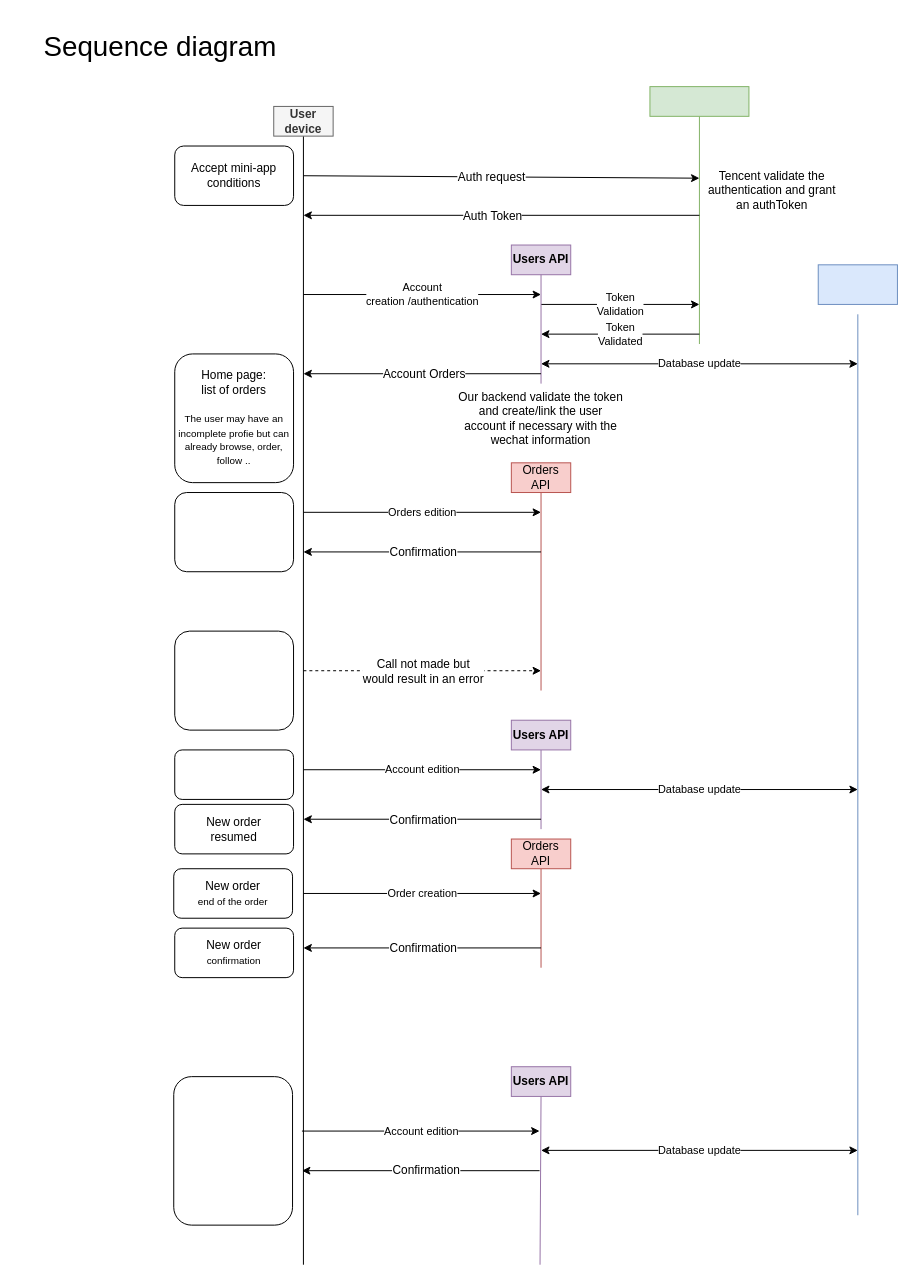
The diagram is 915 pixels wide and 1283 high, and some of its shapes have lost their labels. The centre of each missing label's shape, as x and y in pixels:
"Fill missing information page" goes at pixel 234 774.
"New order The user address, payment is incomplete" goes at pixel 234 680.
"Order edition" goes at pixel 234 532.
"Settings page: Account information The user may edit his account information" goes at pixel 233 1150.
"Tencent authentication" goes at pixel 699 101.
"User Database" goes at pixel 857 284.
